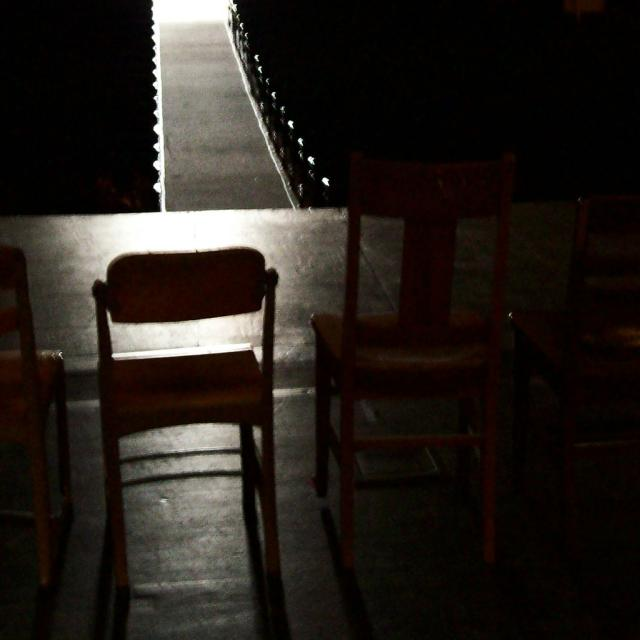chair: (310, 131, 526, 550), (93, 218, 288, 584), (535, 172, 640, 560), (0, 237, 64, 579)
